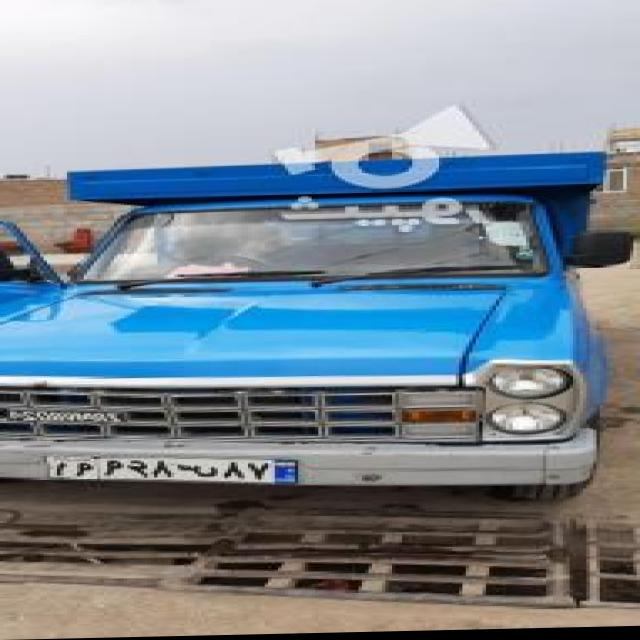licence: (54, 450, 312, 489)
